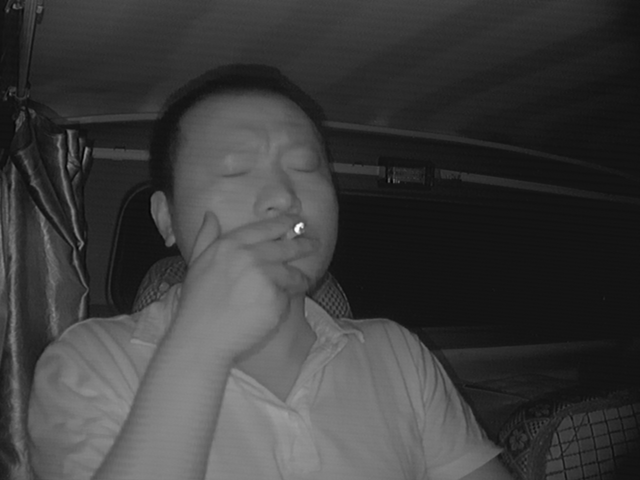hand: (224, 211, 318, 328)
